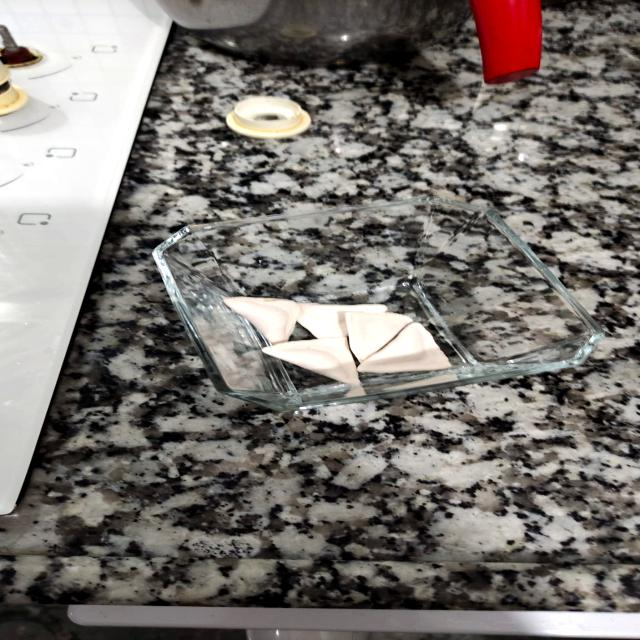turkish dumplings: (209, 278, 466, 392)
